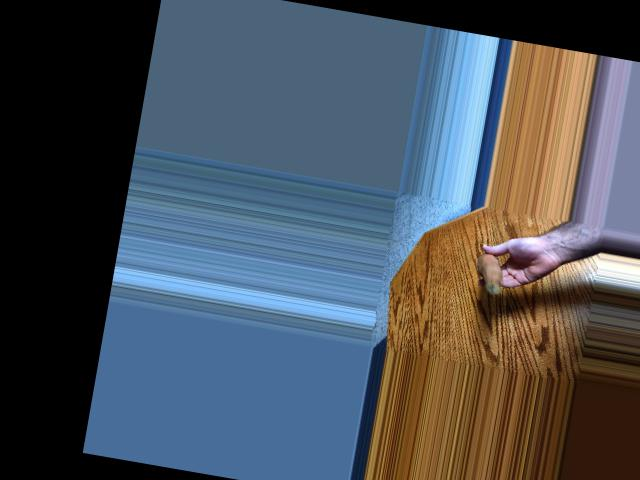sweet_potato: (477, 249, 510, 296)
